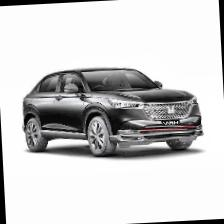NON-EV: (21, 62, 204, 159)
